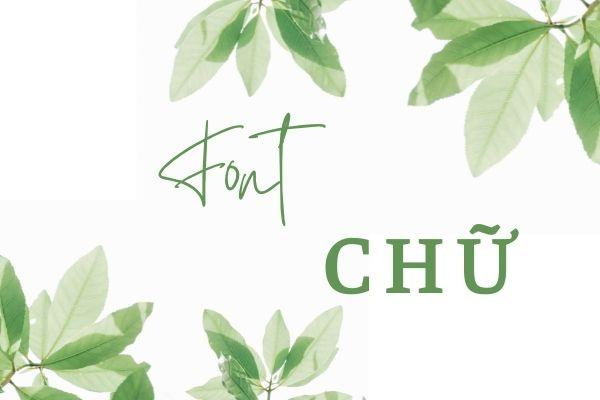text: (156, 111, 326, 231), (323, 223, 520, 299)
